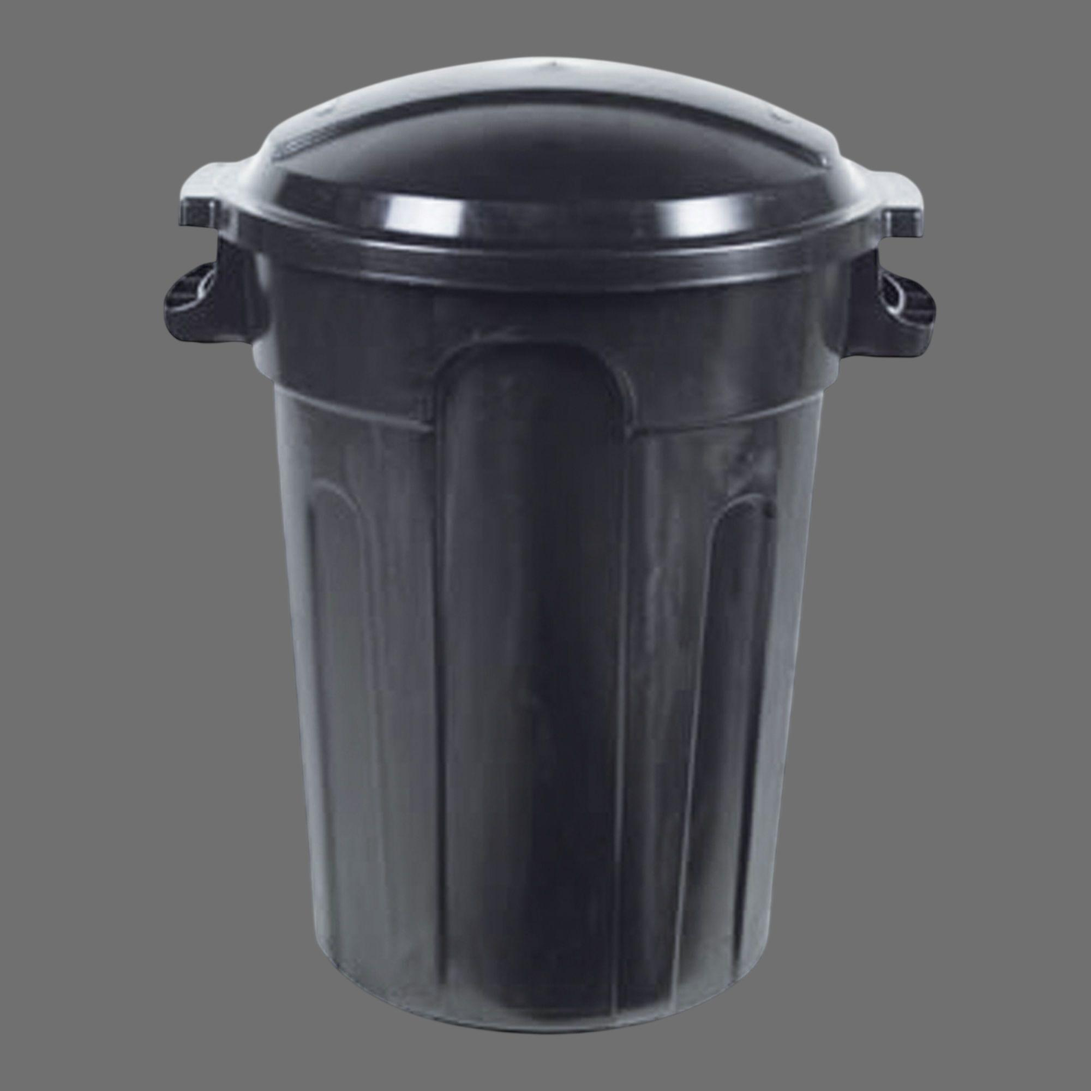garbage container: (155, 42, 946, 1047)
